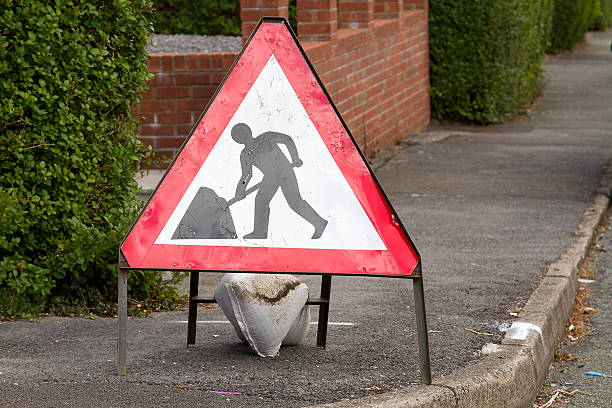yol_calismasi_levha: (123, 16, 427, 281)
